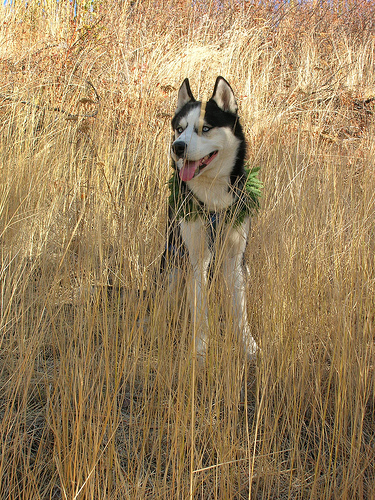dog: (152, 76, 258, 356)
